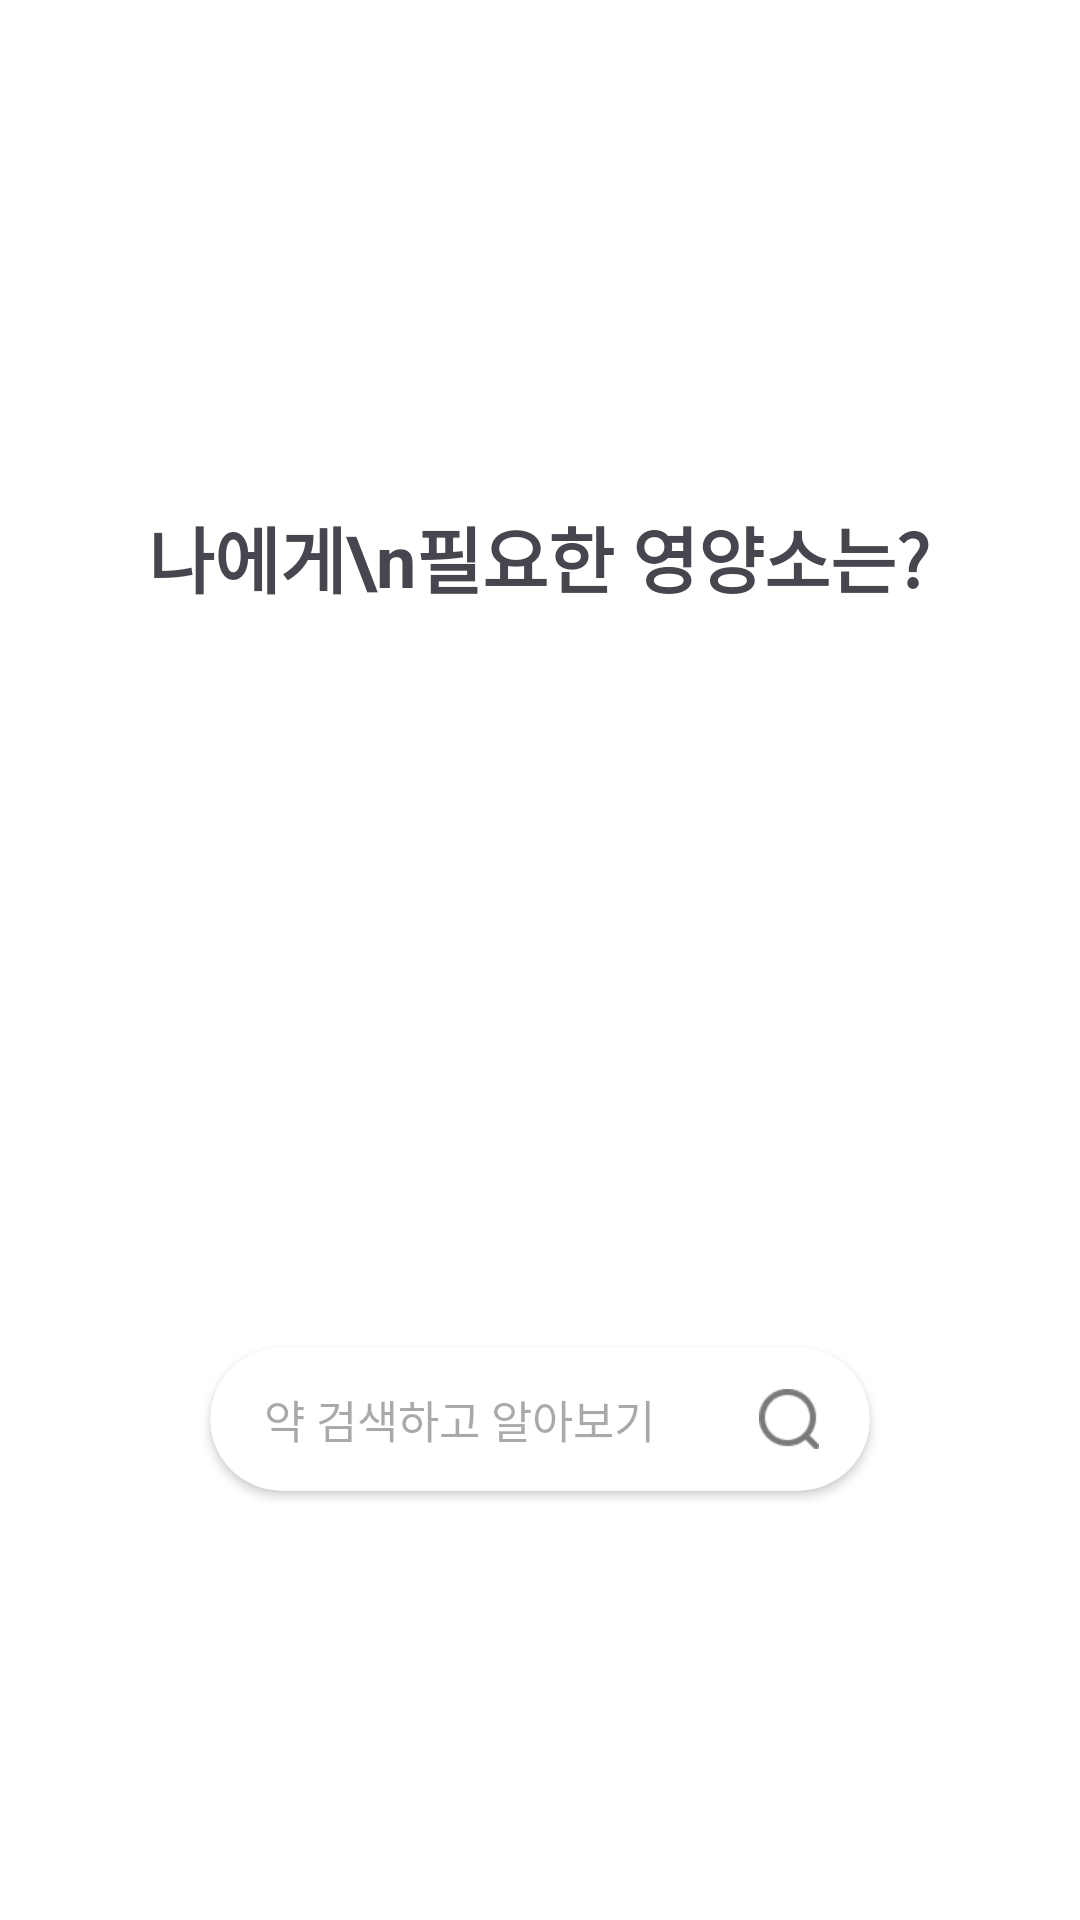

Icon bounding boxes for this 1080px×1920px phone screenshot, format [left=x1, top=y1, right=x2, bottom=y2]:
search: [left=759, top=1389, right=819, bottom=1449]
